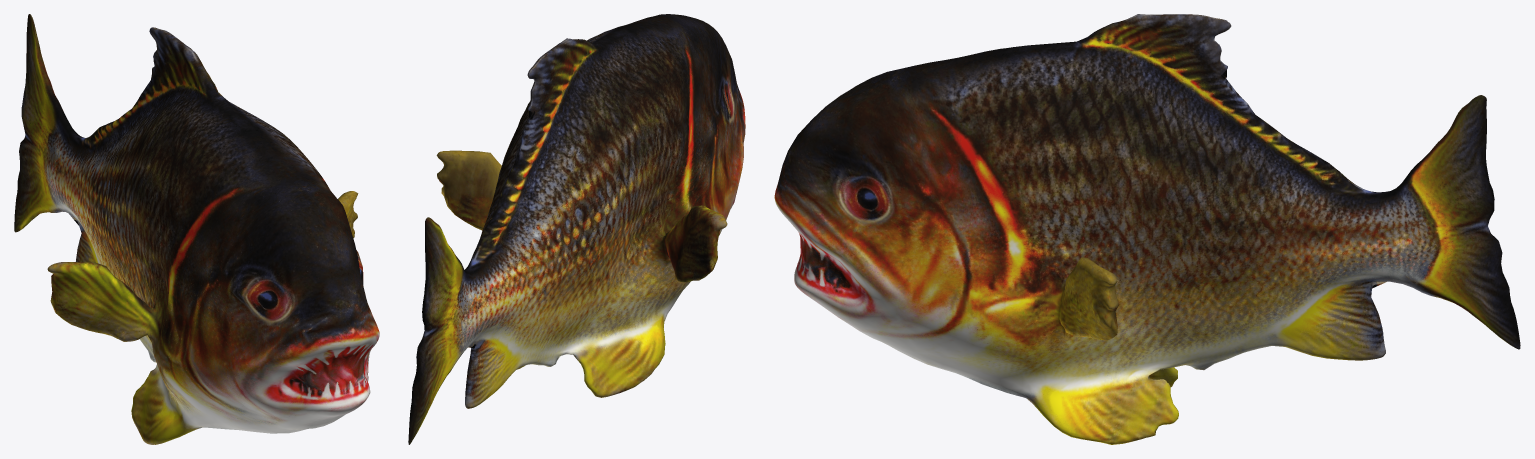
The model's file is a01a7c6a-fdf4-4812-ae22-3bac68964685.glb.
3 renders of one model, left to right at view 1: azimuth 30°, elevation 25°; view 2: azimuth 150°, elevation 25°; view 3: azimuth 270°, elevation 25°, orthographic. The views are drawn at different scales.
Visible parts, largest first — view 1: Piranha_Quad; view 2: Piranha_Quad; view 3: Piranha_Quad.
Part boxes in pixels (x1,y1,x2,y2): Piranha_Quad: [14, 14, 379, 444]; Piranha_Quad: [408, 14, 745, 444]; Piranha_Quad: [774, 14, 1520, 444].
Size of the model in its own units: 0.0897 by 0.102 by 0.1706.
1 material, 1 textured.
